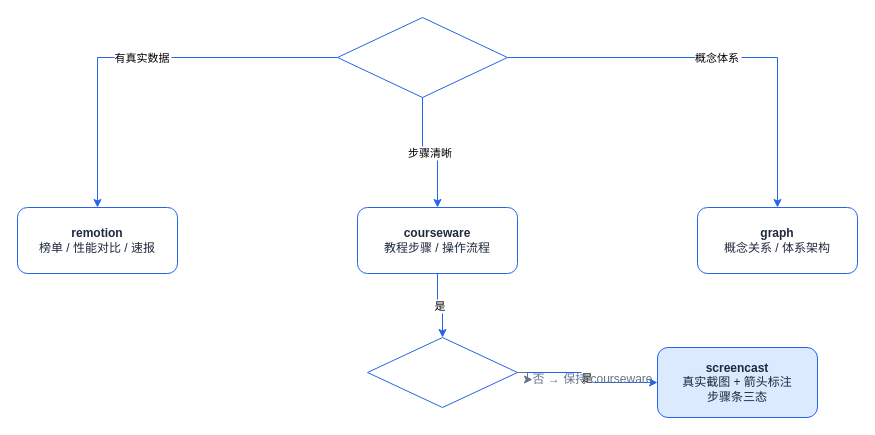
This 875x435 diagram has some shape labels left out. The shapes that lost their labels are listed below. From the top down, each one's centre as x and y in pixels, then its label:
At point (422, 57): "内容里有什么？".
At point (442, 372): "要演示真实界面？".
